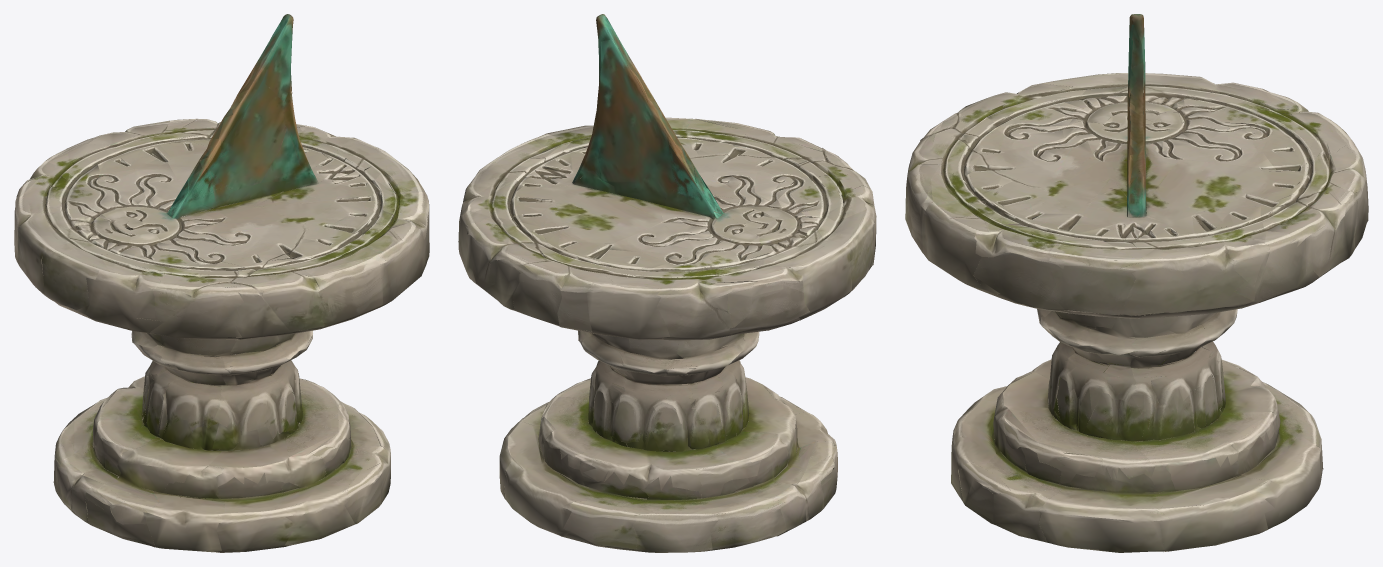
File: sundial.glb
3 renders of one model, left to right at view 1: azimuth 30°, elevation 25°; view 2: azimuth 150°, elevation 25°; view 3: azimuth 270°, elevation 25°, orthographic. The views are drawn at different scales.
Parts seen in each view (by area): view 1: Mesh_0; view 2: Mesh_0; view 3: Mesh_0.
Boxes of the visible parts, x1=… form: Mesh_0: x1=14, y1=14, x2=429, y2=552; Mesh_0: x1=458, y1=14, x2=876, y2=552; Mesh_0: x1=905, y1=14, x2=1368, y2=552.
Size of the model in its own units: 4.58 by 5.48 by 4.6.
1 material, 1 textured.
